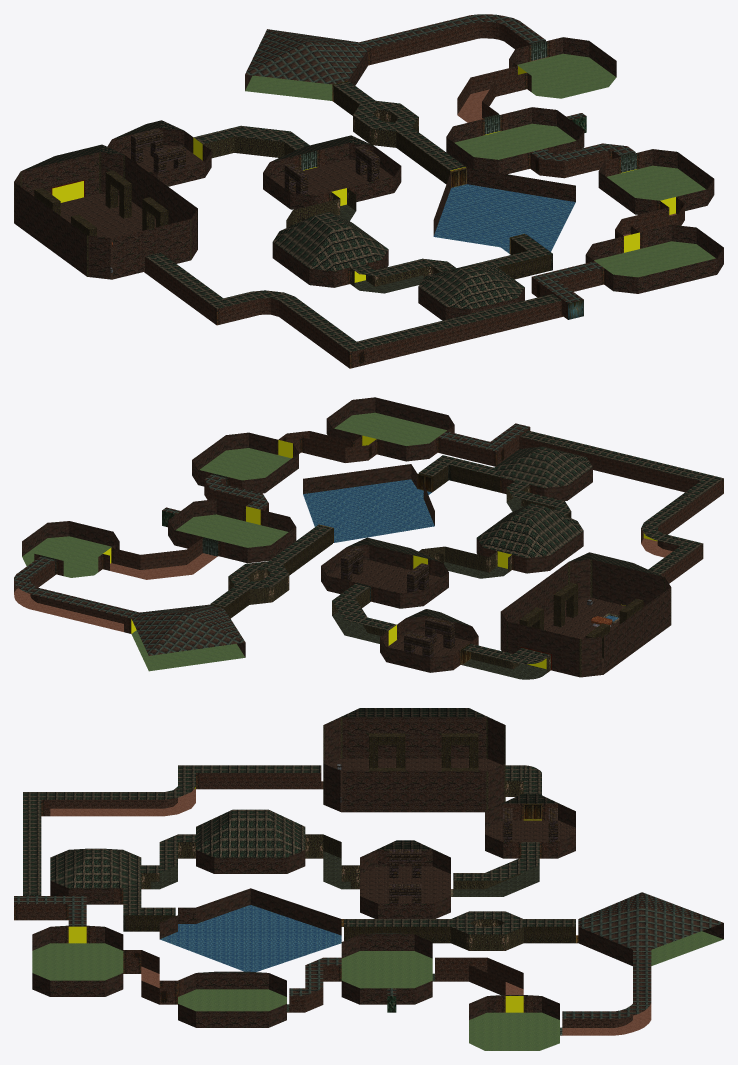
File: D13.Blv 1.obj
3 renders of one model, top to bottom at view 1: azimuth 30°, elevation 25°; view 2: azimuth 150°, elevation 25°; view 3: azimuth 270°, elevation 25°, orthographic. The views are drawn at different scales.
Parts seen in each view (by area): view 1: Room23, Room10, Room26, Room18, Room2, Room8, Room4, Room13, Room3, Room6, Room7, Room12 (+13 smaller); view 2: Room23, Room10, Room18, Room8, Room4, Room26, Room2, Room13, Room3, Room21, Room12, Room6 (+14 smaller); view 3: Room23, Room10, Room8, Room18, Room13, Room4, Room2, Room3, Room26, Room21, Room6, Room12 (+14 smaller).
Part boxes in pixels (bbox=[...]): Room23: bbox=[14, 144, 197, 279]; Room10: bbox=[433, 167, 575, 254]; Room26: bbox=[279, 294, 563, 368]; Room18: bbox=[263, 135, 401, 209]; Room2: bbox=[585, 224, 723, 293]; Room8: bbox=[245, 29, 368, 100]; Room4: bbox=[446, 107, 586, 174]; Room13: bbox=[272, 212, 388, 287]; Room3: bbox=[598, 149, 714, 214]; Room6: bbox=[509, 37, 616, 98]; Room7: bbox=[359, 14, 545, 65]; Room12: bbox=[418, 260, 524, 320]; Room23: bbox=[500, 552, 671, 677]; Room10: bbox=[303, 464, 434, 542]; Room18: bbox=[321, 537, 448, 608]; Room8: bbox=[131, 604, 245, 671]; Room4: bbox=[162, 499, 296, 563]; Room26: bbox=[519, 430, 723, 534]; Room2: bbox=[326, 397, 454, 461]; Room13: bbox=[476, 503, 583, 573]; Room3: bbox=[192, 432, 298, 493]; Room21: bbox=[380, 609, 478, 672]; Room12: bbox=[485, 446, 592, 501]; Room6: bbox=[22, 521, 119, 577]; Room23: bbox=[323, 708, 505, 812]; Room10: bbox=[159, 888, 343, 971]; Room8: bbox=[578, 892, 723, 965]; Room18: bbox=[360, 840, 450, 918]; Room13: bbox=[196, 809, 305, 873]; Room4: bbox=[341, 933, 432, 1012]; Room2: bbox=[32, 925, 123, 996]; Room3: bbox=[178, 971, 286, 1027]; Room26: bbox=[23, 792, 164, 895]; Room21: bbox=[485, 794, 575, 858]; Room6: bbox=[469, 995, 562, 1050]; Room12: bbox=[50, 848, 141, 904].
Bounding box in the file's own units: 9728 × 1024 × 9984.
37 materials, 37 textured.
